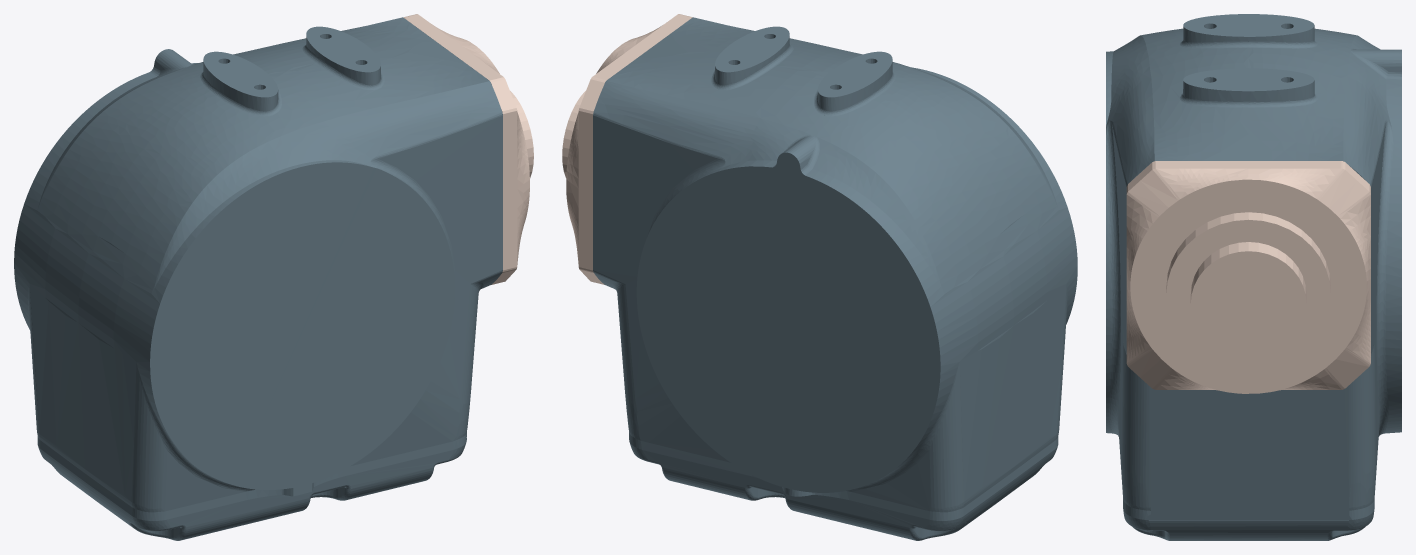
The picture shows the model from 3 angles, left to right: view 1: azimuth 30°, elevation 25°; view 2: azimuth 150°, elevation 25°; view 3: azimuth 270°, elevation 25°; orthographic projection. The views are drawn at different scales.
Parts seen in each view (by area): view 1: link3_modified; view 2: link3_modified; view 3: link3_modified.
Boxes of the visible parts, x1,y1,x2,y2 form: link3_modified: [14, 14, 533, 540]; link3_modified: [562, 14, 1077, 540]; link3_modified: [1106, 14, 1401, 540].
Bounding box in the file's own units: 0.2075 × 0.115 × 0.188.
